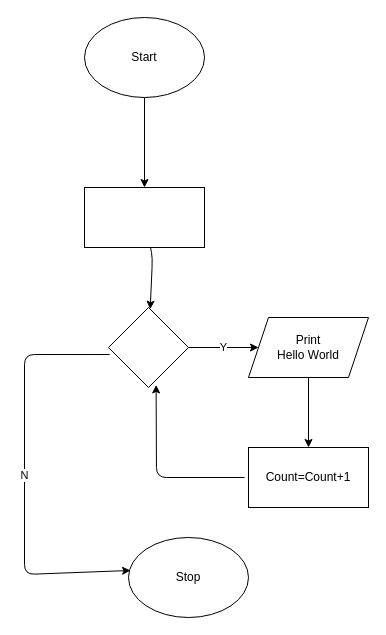
Some shapes in this 386 by 635 pixel diagram are drawn without their labels. The centre of each missing label's shape, as x and y in pixels:
Count<10: the point at 148,347
Count=0: the point at 144,217
